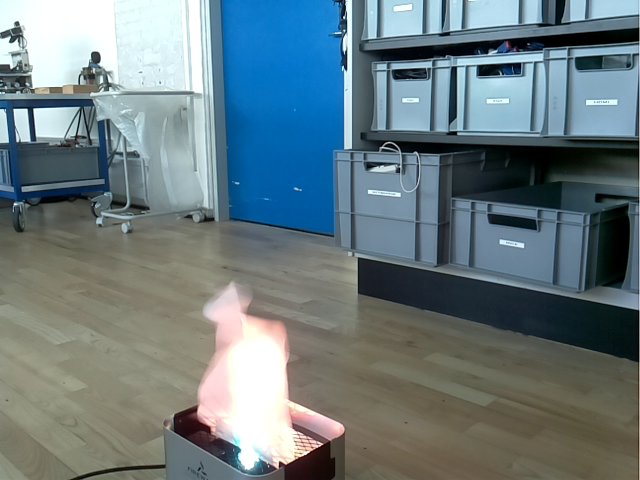fire: (197, 278, 294, 469)
